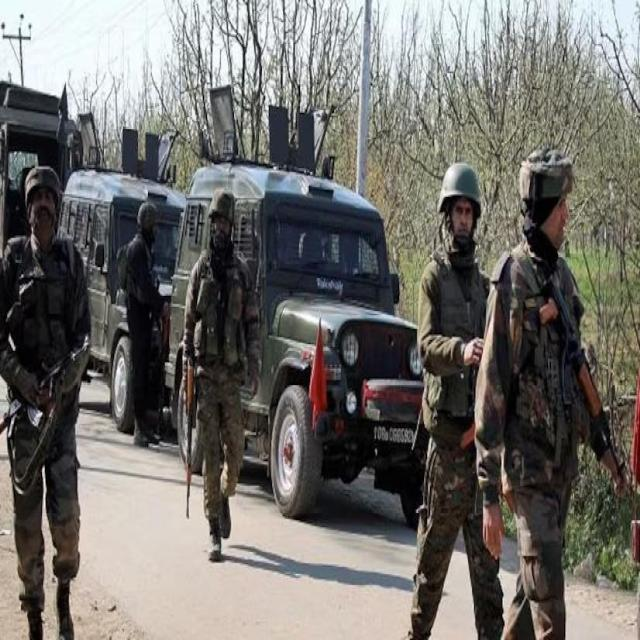military-plate: (370, 420, 417, 450)
